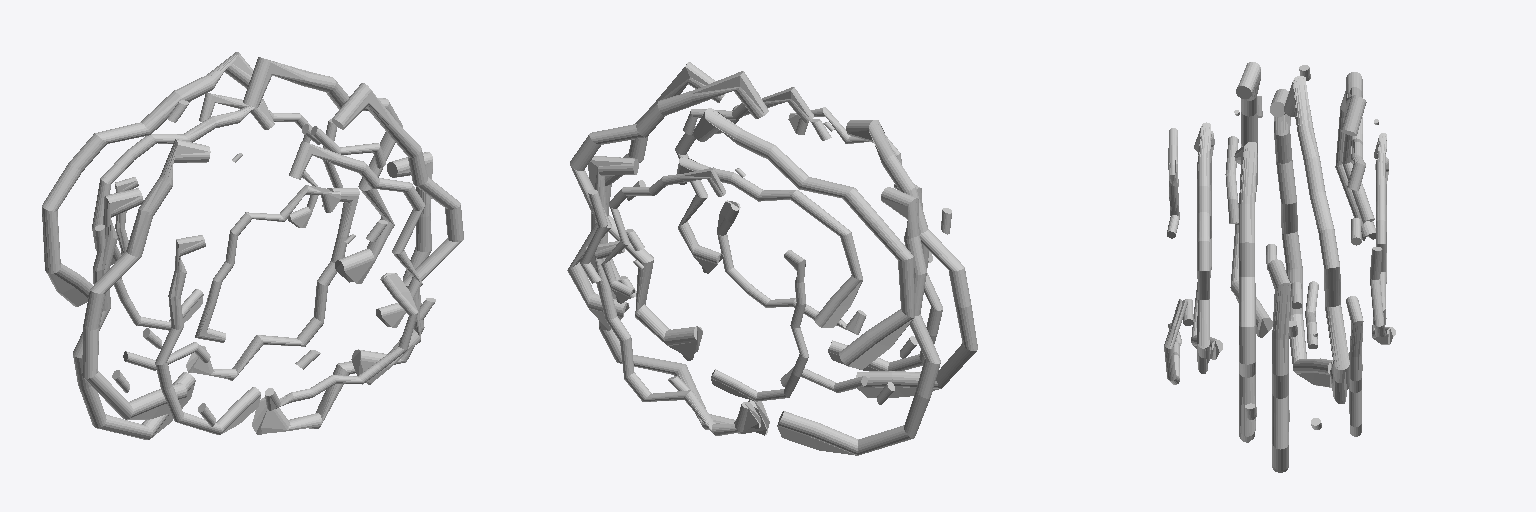
The model's file is random.obj.
3 renders of one model, left to right at view 1: azimuth 30°, elevation 25°; view 2: azimuth 150°, elevation 25°; view 3: azimuth 270°, elevation 25°, orthographic.
Parts seen in each view (by area): view 1: pTorus24; view 2: pTorus24; view 3: pTorus24.
Part boxes in pixels (x1,y1,x2,y2): pTorus24: (42, 52, 463, 439); pTorus24: (567, 62, 977, 455); pTorus24: (1164, 62, 1395, 472).
Size of the model in its own units: 26.67 by 25.06 by 14.05.